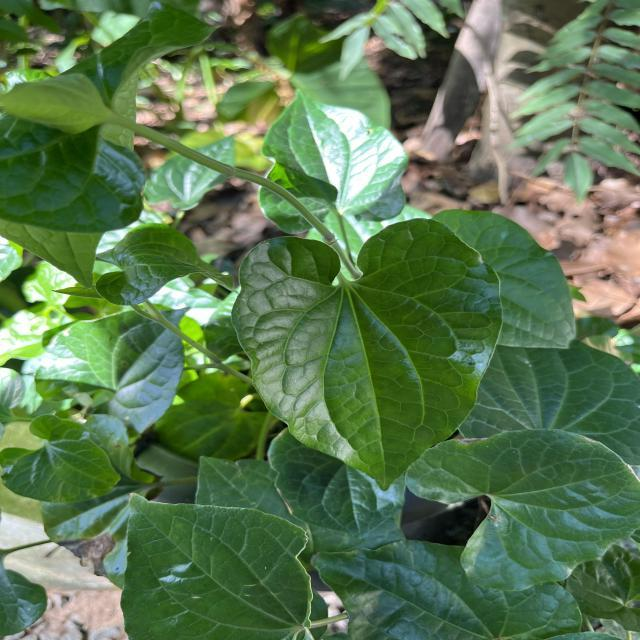Piper longum: (228, 214, 508, 495)
